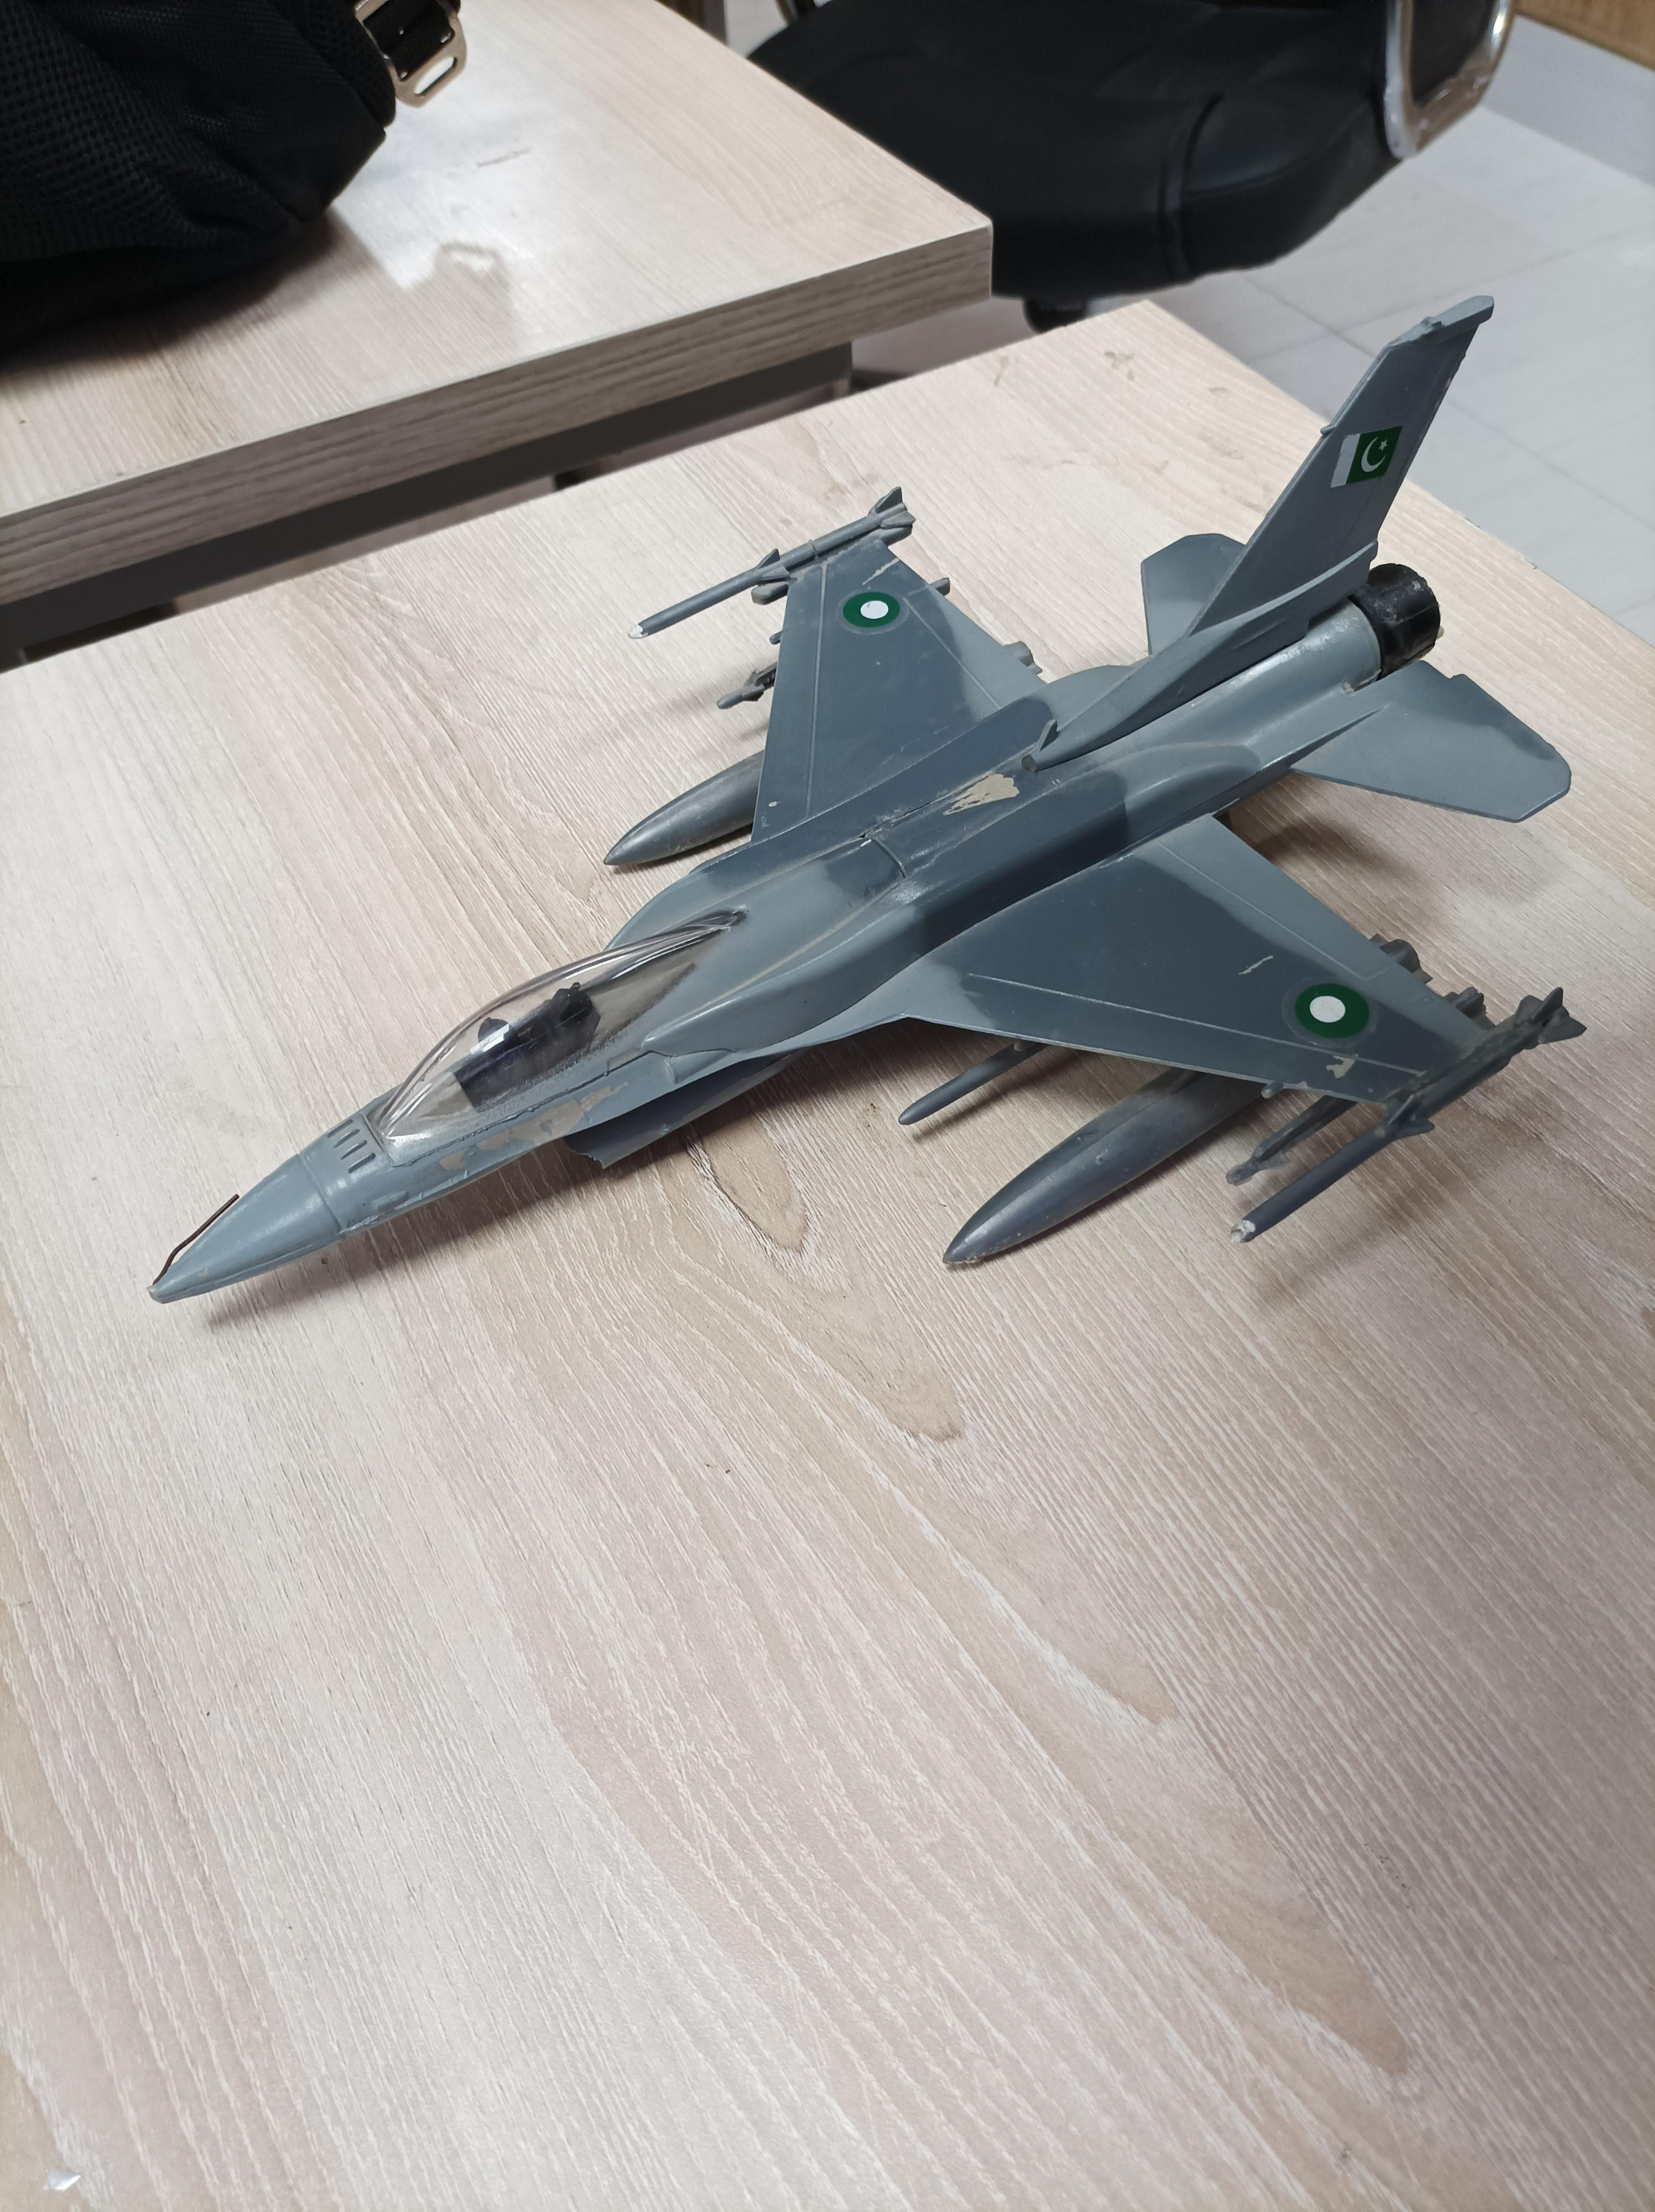Airplane: (130, 294, 1601, 1322)
